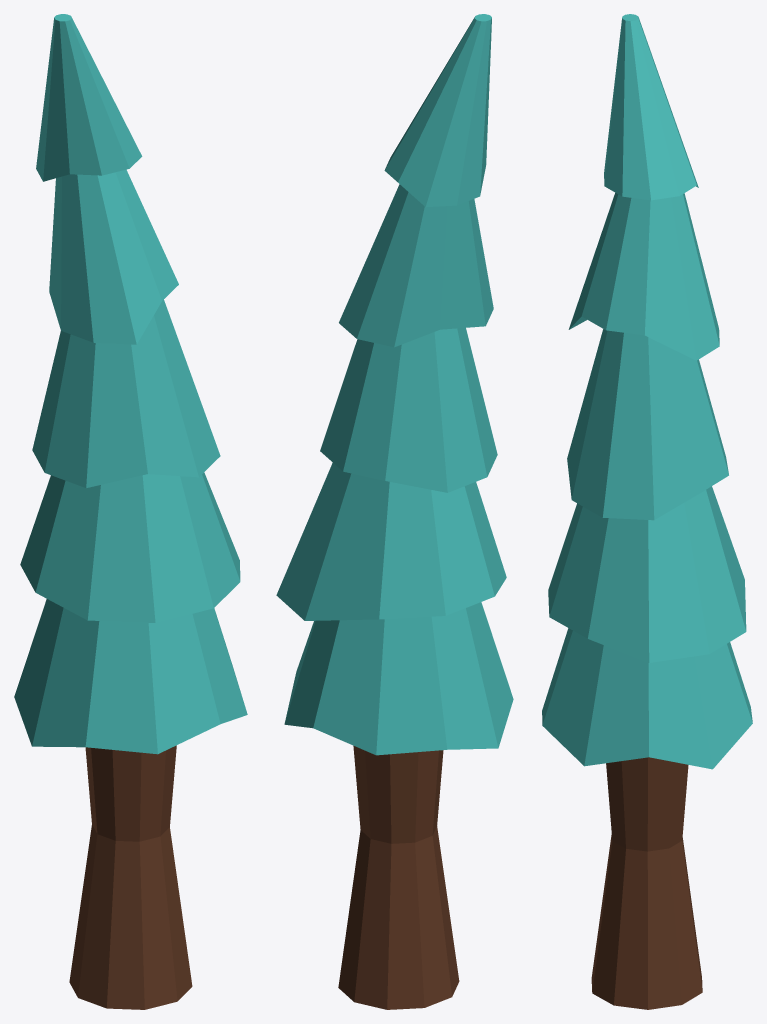
File: Natures2t4-cyan.fbx
The picture shows the model from 3 angles, left to right: view 1: azimuth 30°, elevation 25°; view 2: azimuth 150°, elevation 25°; view 3: azimuth 270°, elevation 25°; orthographic projection. The views are drawn at different scales.
Parts seen in each view (by area): view 1: t4-cyan; view 2: t4-cyan; view 3: t4-cyan.
Boxes of the visible parts, bbox=[...] form: t4-cyan: bbox=[14, 14, 247, 1009]; t4-cyan: bbox=[276, 14, 513, 1009]; t4-cyan: bbox=[542, 14, 752, 1009].
Bounding box in the file's own units: 224 × 1009 × 207.
